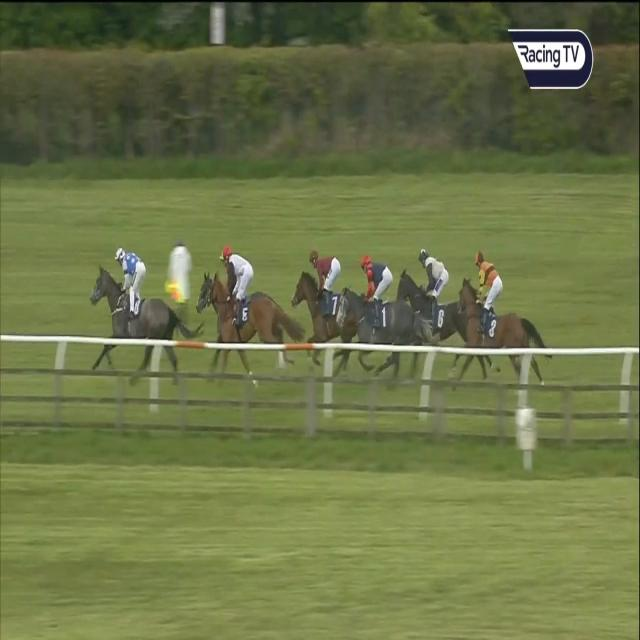horses-racing: (454, 252, 554, 388), (88, 246, 182, 385), (215, 241, 292, 385), (337, 255, 412, 387), (292, 251, 353, 381), (398, 248, 465, 349), (194, 242, 250, 306)
